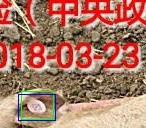text: (21, 91, 53, 119)
